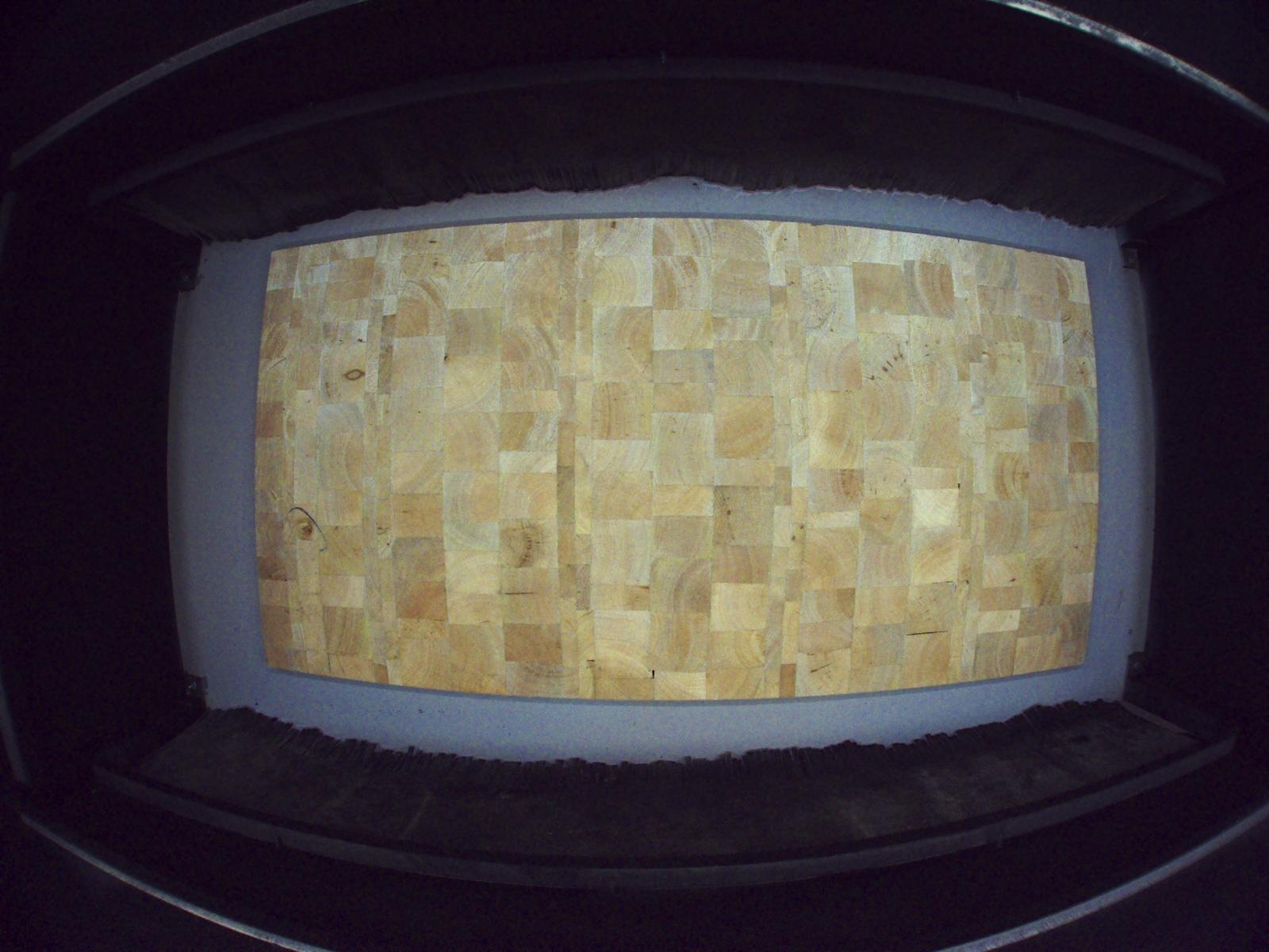nudillo: (294, 519, 315, 541)
